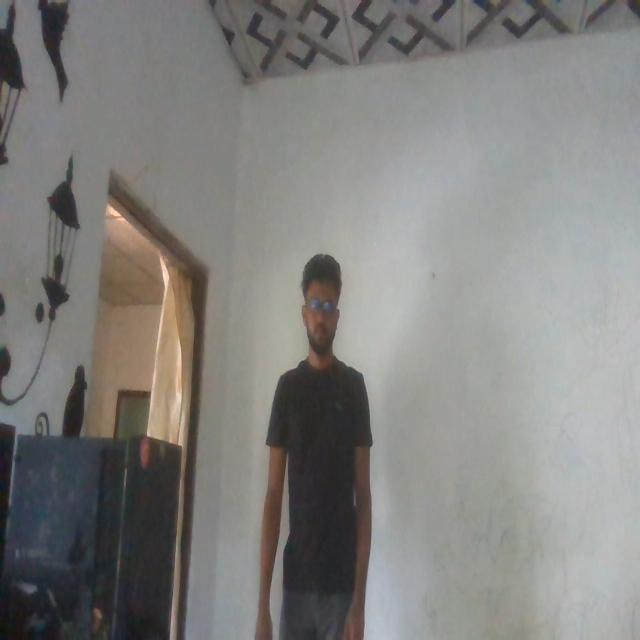Person: (263, 248, 379, 640)
